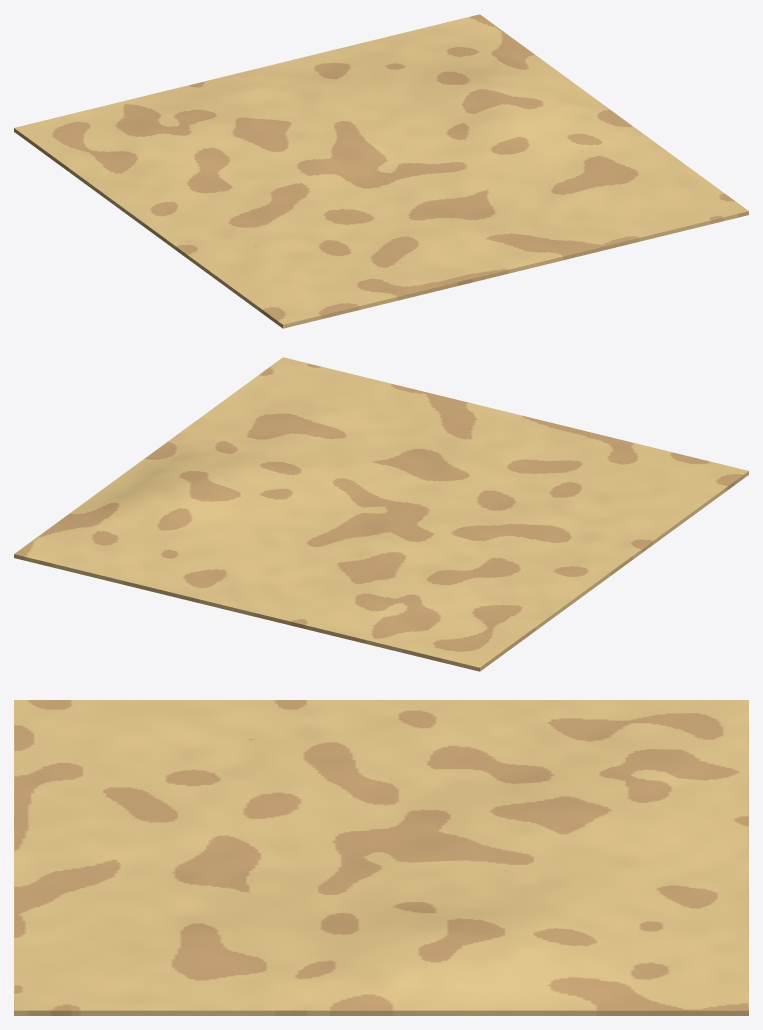
The model's file is Desert_Flat_03.obj.
3 renders of one model, top to bottom at view 1: azimuth 30°, elevation 25°; view 2: azimuth 150°, elevation 25°; view 3: azimuth 270°, elevation 25°, orthographic. The views are drawn at different scales.
Bounding box in the file's own units: 10 × 0.3371 × 10.
1 material, 1 textured.
